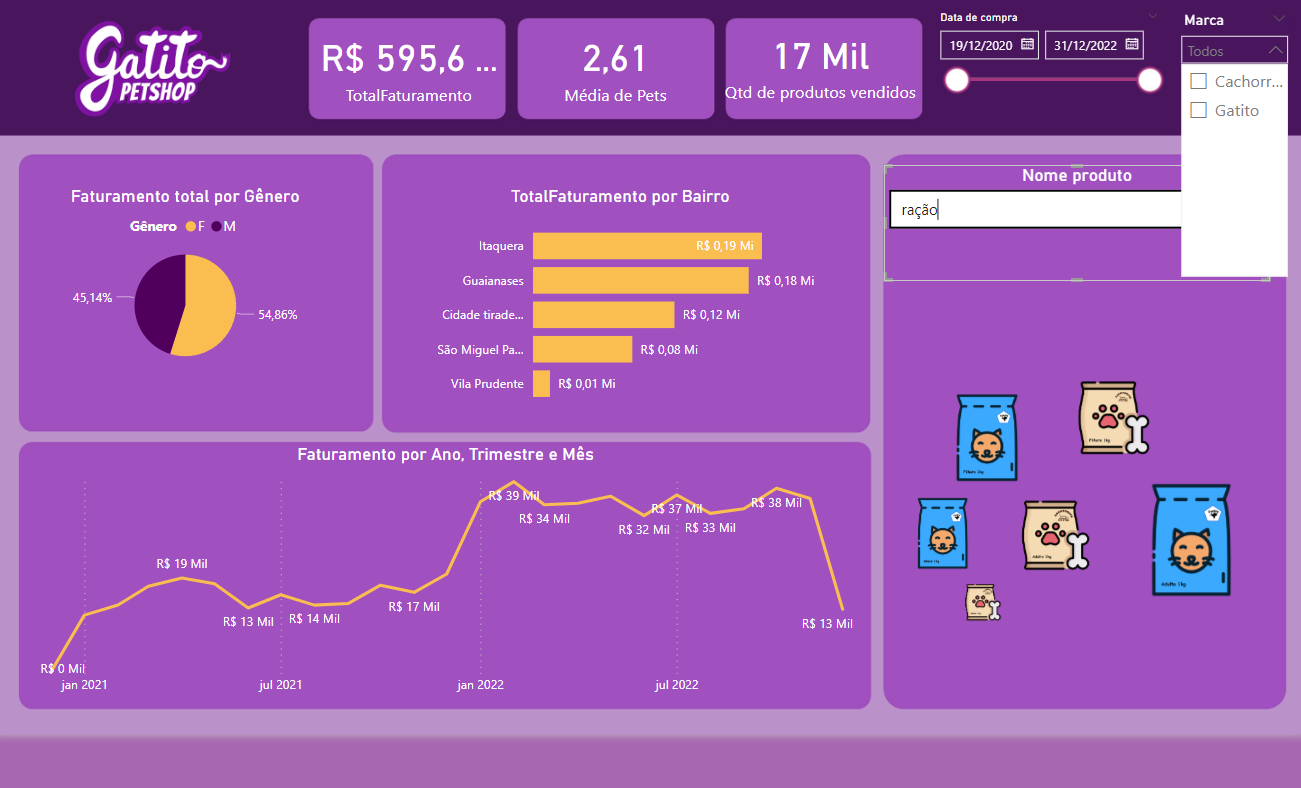

This screenshot's page, from the dashboard's own definition file:
{"tool":"powerbi","page":{"name":"Página 1","canvas":[1280,720],"ordinal":0},"visuals":[{"type":"card","fields":{"Values":["Vendas.TotalFaturamento"]},"box":[310.3,17.5,190.6,104.1],"z":0},{"type":"card","fields":{"Values":["Avg(Clientes.Pets)"]},"box":[509.7,17.5,193.6,104.1],"z":1000},{"type":"card","fields":{"Values":["Sum(Vendas.Quantidade)"]},"box":[703.2,12.6,207.2,108.9],"z":2000},{"type":"pieChart","title":"Faturamento total por Gênero","fields":{"Category":["Clientes.Gênero"],"Y":["Vendas.TotalFaturamento"]},"box":[21.4,186.7,333.6,184.8],"z":3000},{"type":"clusteredBarChart","fields":{"Category":["Clientes.Bairro"],"Y":["Vendas.TotalFaturamento"]},"box":[415.3,186.7,392,224.7],"z":4000},{"type":"lineChart","title":"Faturamento por Ano, Trimestre e Mês","fields":{"Category":["Vendas.Data de compra.Variation.Hierarquia de datas.Ano","Vendas.Data de compra.Variation.Hierarquia de datas.Trimestre","Vendas.Data de compra.Variation.Hierarquia de datas.Mês","Vendas.Data de compra.Variation.Hierarquia de datas.Dia"],"Y":["Vendas.TotalFaturamento"]},"box":[29.2,437.7,824.8,252.9],"z":5000},{"type":"ImageGrid_FC5183B9_926C_45E0_B5F7_0CE9EAF1DA9B","fields":{"ImageURL":["Produtos.Url img"]},"box":[868,288,388,403],"z":6000},{"type":"textFilter25A4896A83E0487089E2B90C9AE57C8A","fields":{"field":["Produtos.Nome produto"]},"box":[868,166,376,113],"z":7000},{"type":"slicer","fields":{"Values":["Produtos.Marca"]},"box":[1147.7,12.6,124.5,108.9],"z":8000},{"type":"slicer","fields":{"Values":["Vendas.Data de compra"]},"box":[910.4,11.7,237.3,135.2],"z":9000}]}

Visuals, with their boxes on the page's 1280x720 design canvas (x1, y1, x2, y2). These are canvas units, not pixel positions in the 1301x788 screenshot, which may show the page scaled, cropped or inside an application window:
card - Vendas.TotalFaturamento: {"x1": 310, "y1": 18, "x2": 501, "y2": 122}
card - Avg(Clientes.Pets): {"x1": 510, "y1": 18, "x2": 703, "y2": 122}
card - Sum(Vendas.Quantidade): {"x1": 703, "y1": 13, "x2": 910, "y2": 122}
"Faturamento total por Gênero" pieChart: {"x1": 21, "y1": 187, "x2": 355, "y2": 372}
clusteredBarChart - Clientes.Bairro x Vendas.TotalFaturamento: {"x1": 415, "y1": 187, "x2": 807, "y2": 411}
"Faturamento por Ano, Trimestre e Mês" lineChart: {"x1": 29, "y1": 438, "x2": 854, "y2": 691}
ImageGrid_FC5183B9_926C_45E0_B5F7_0CE9EAF1DA9B - Produtos.Url img: {"x1": 868, "y1": 288, "x2": 1256, "y2": 691}
textFilter25A4896A83E0487089E2B90C9AE57C8A - Produtos.Nome produto: {"x1": 868, "y1": 166, "x2": 1244, "y2": 279}
slicer - Produtos.Marca: {"x1": 1148, "y1": 13, "x2": 1272, "y2": 122}
slicer - Vendas.Data de compra: {"x1": 910, "y1": 12, "x2": 1148, "y2": 147}
